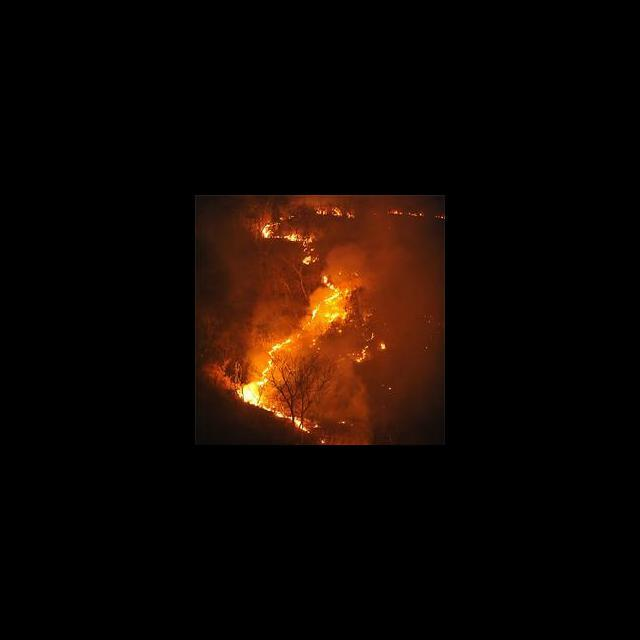Fire: (232, 207, 360, 440)
